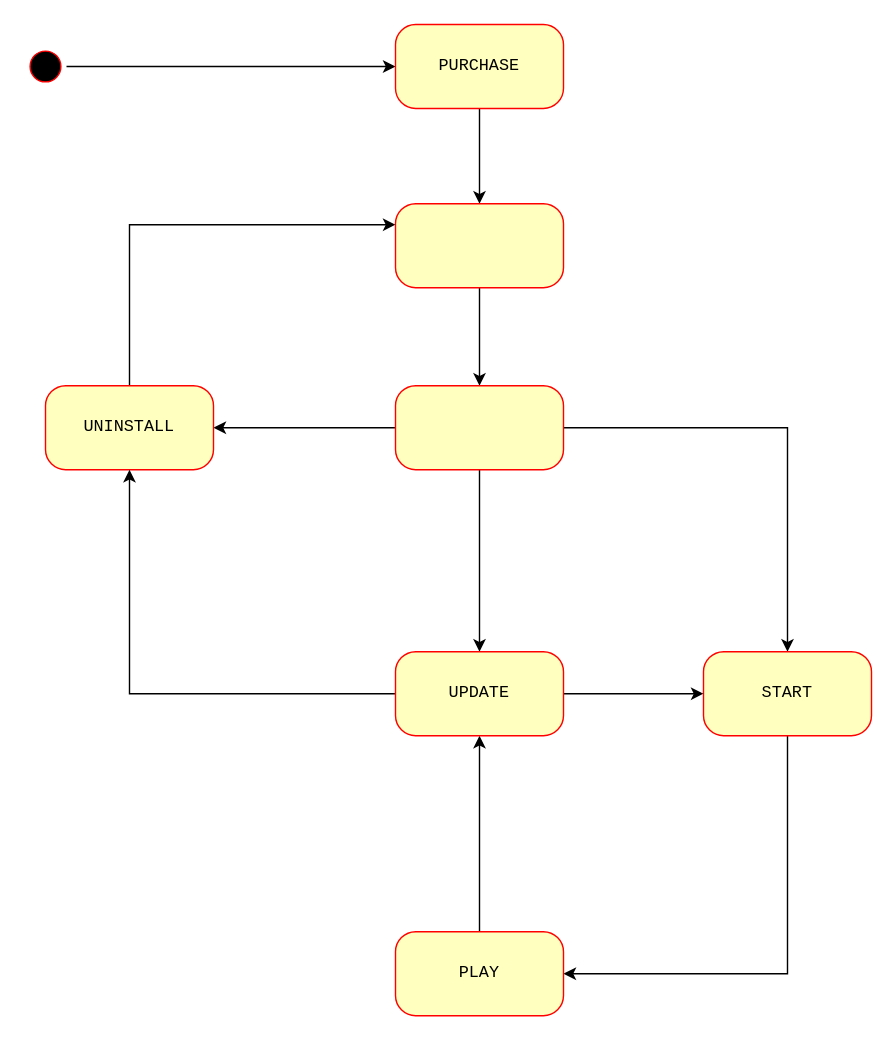
Image size: 896x1040. Some labels were removed from this diagram. The shapes that lost their labels are listed below. From the top down, each one's box as (x1, y1, x2, y2) in pixels, then its label:
(394, 202, 564, 288): DOWNLOAD
(394, 384, 564, 470): INSTALL
